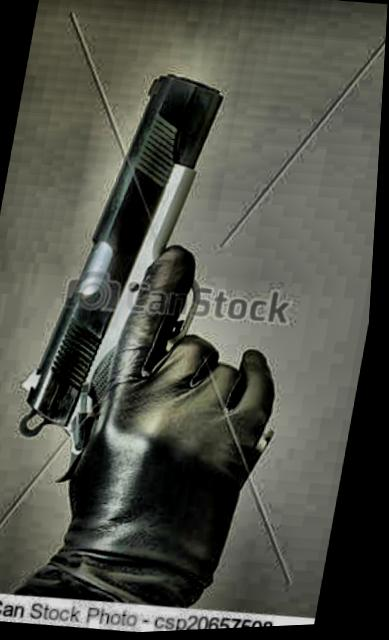pistol: (0, 55, 331, 496)
